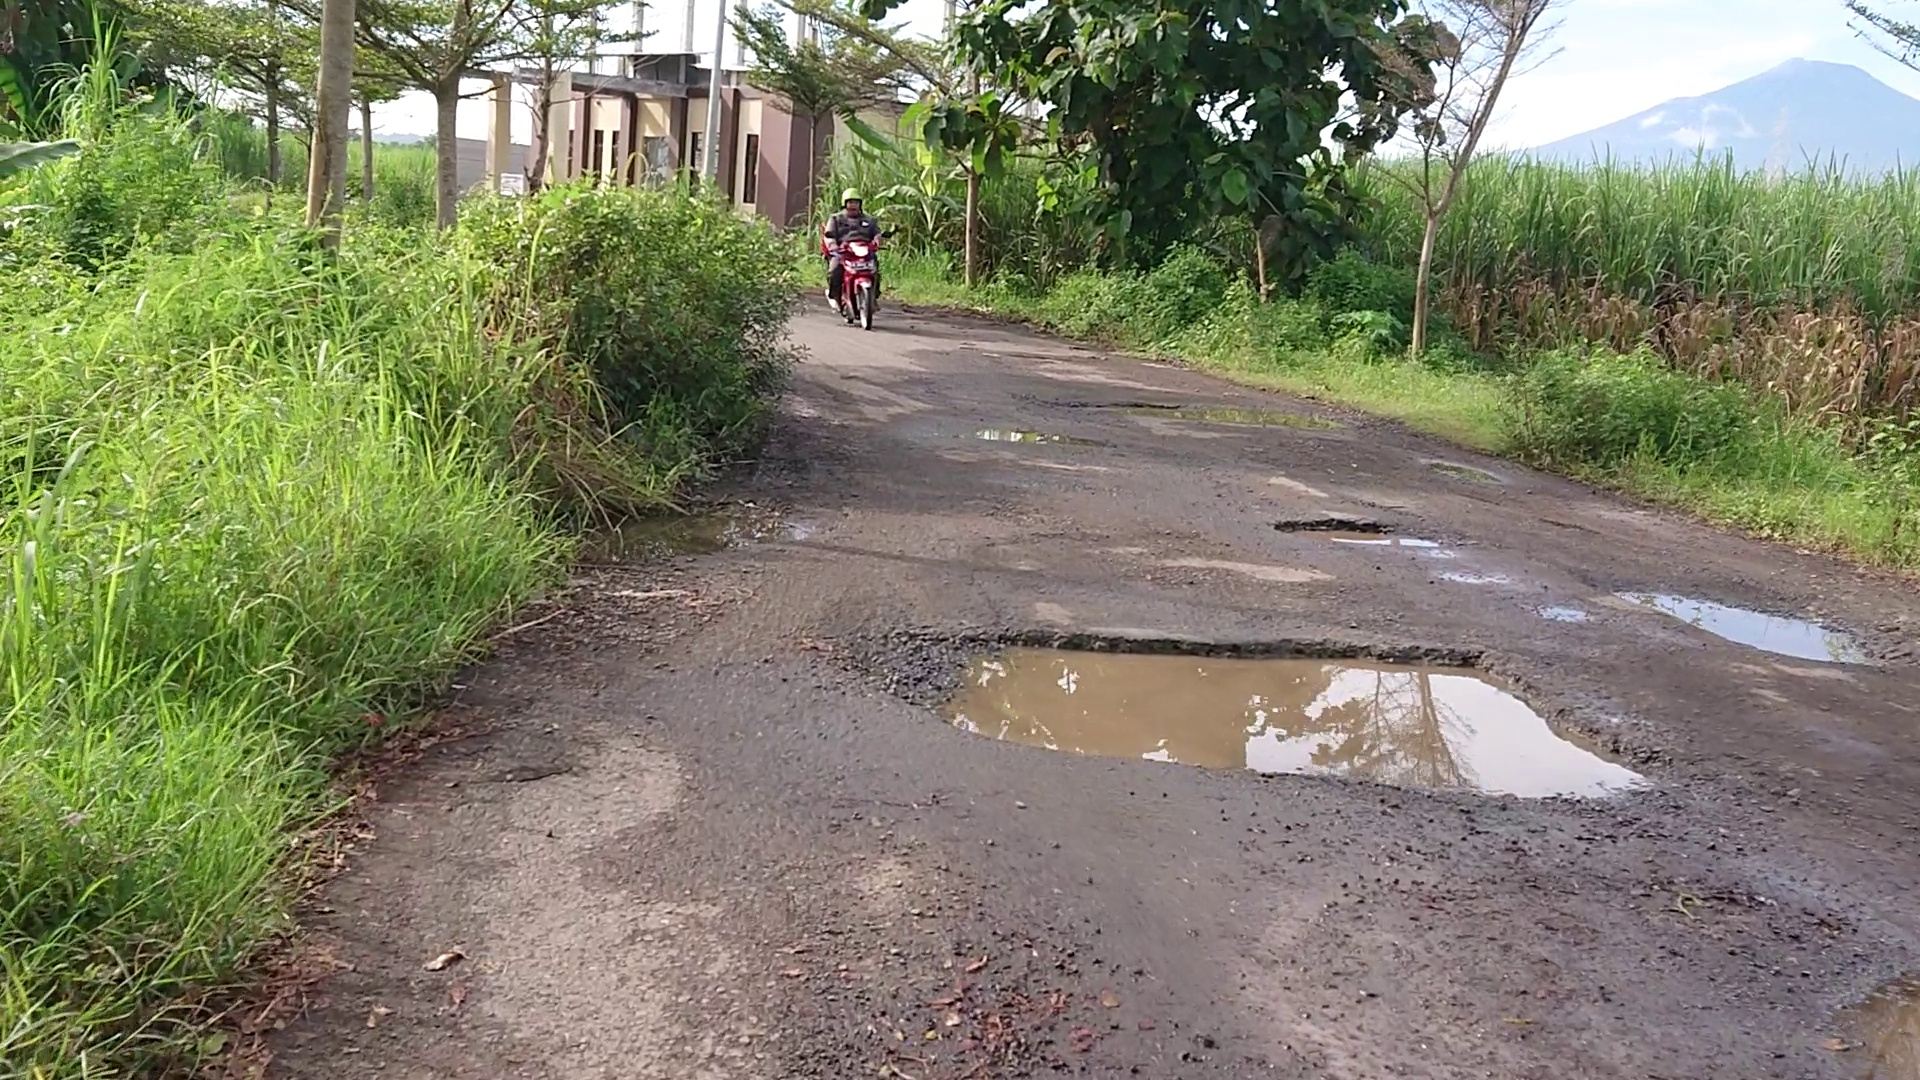Berlubang: (920, 632, 1625, 799), (1606, 585, 1858, 665), (1058, 397, 1325, 434), (1276, 520, 1443, 555)
